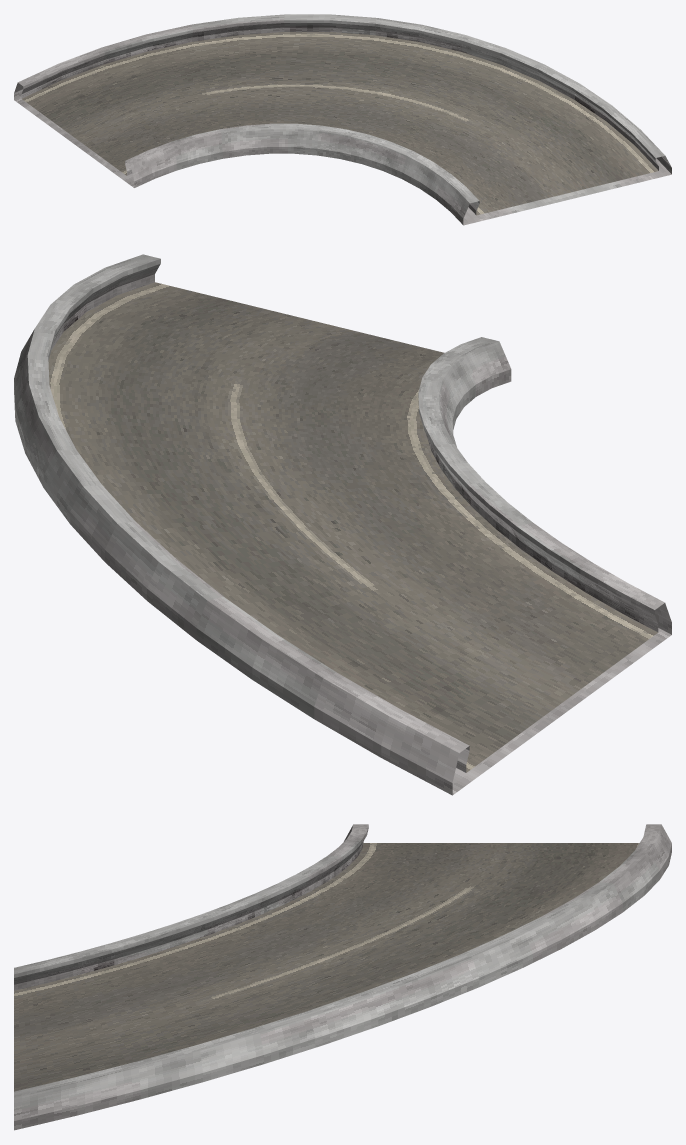
File: turn-left2x2.glb
3 renders of one model, top to bottom at view 1: azimuth 30°, elevation 25°; view 2: azimuth 150°, elevation 25°; view 3: azimuth 270°, elevation 25°, orthographic. The views are drawn at different scales.
Parts seen in each view (by area): view 1: road-Turn-BiSlopeUp-BiSlopeDown-Even-Left-Size2; view 2: road-Turn-BiSlopeUp-BiSlopeDown-Even-Left-Size2; view 3: road-Turn-BiSlopeUp-BiSlopeDown-Even-Left-Size2.
Part boxes in pixels (bbox=[...]): road-Turn-BiSlopeUp-BiSlopeDown-Even-Left-Size2: bbox=[14, 14, 671, 225]; road-Turn-BiSlopeUp-BiSlopeDown-Even-Left-Size2: bbox=[14, 254, 671, 795]; road-Turn-BiSlopeUp-BiSlopeDown-Even-Left-Size2: bbox=[14, 824, 671, 1130].
Bounding box in the file's own units: 2 × 0.2976 × 2.
2 materials, 2 textured.
